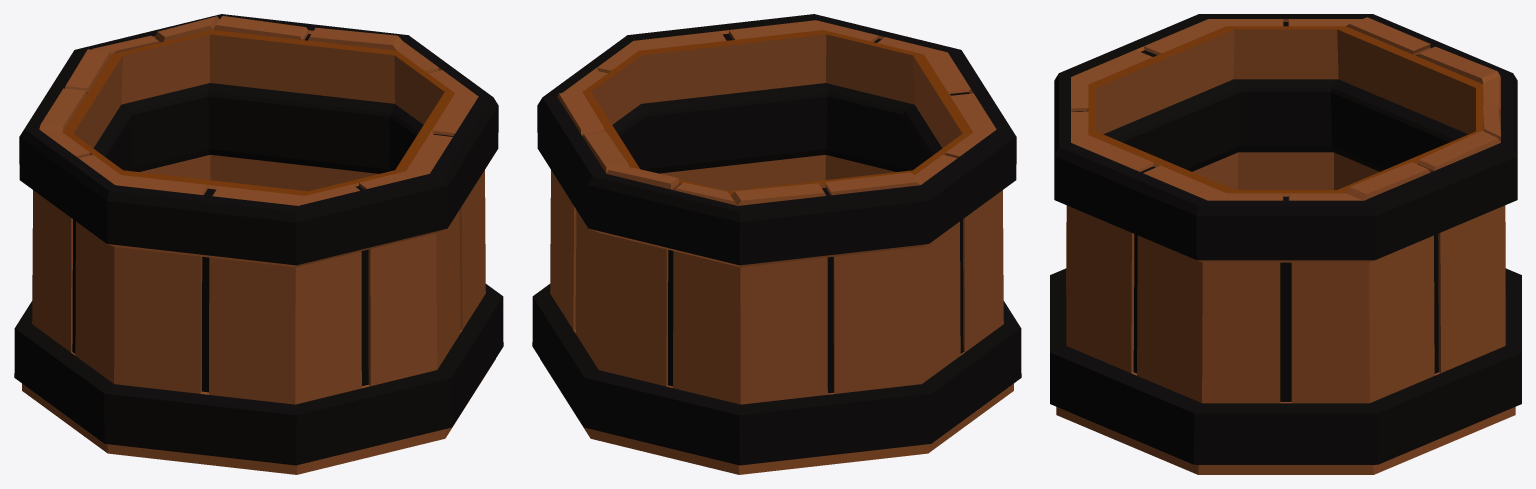
Rendered from Basket.fbx.
The picture shows the model from 3 angles, left to right: view 1: azimuth 30°, elevation 25°; view 2: azimuth 150°, elevation 25°; view 3: azimuth 270°, elevation 25°; orthographic projection. The views are drawn at different scales.
Visible parts, largest first — view 1: Basket; view 2: Basket; view 3: Basket.
Boxes of the visible parts, x1,y1,x2,y2 form: Basket: [14, 14, 503, 474]; Basket: [532, 14, 1021, 474]; Basket: [1050, 14, 1521, 474].
Size of the model in its own units: 205 by 131 by 205.
